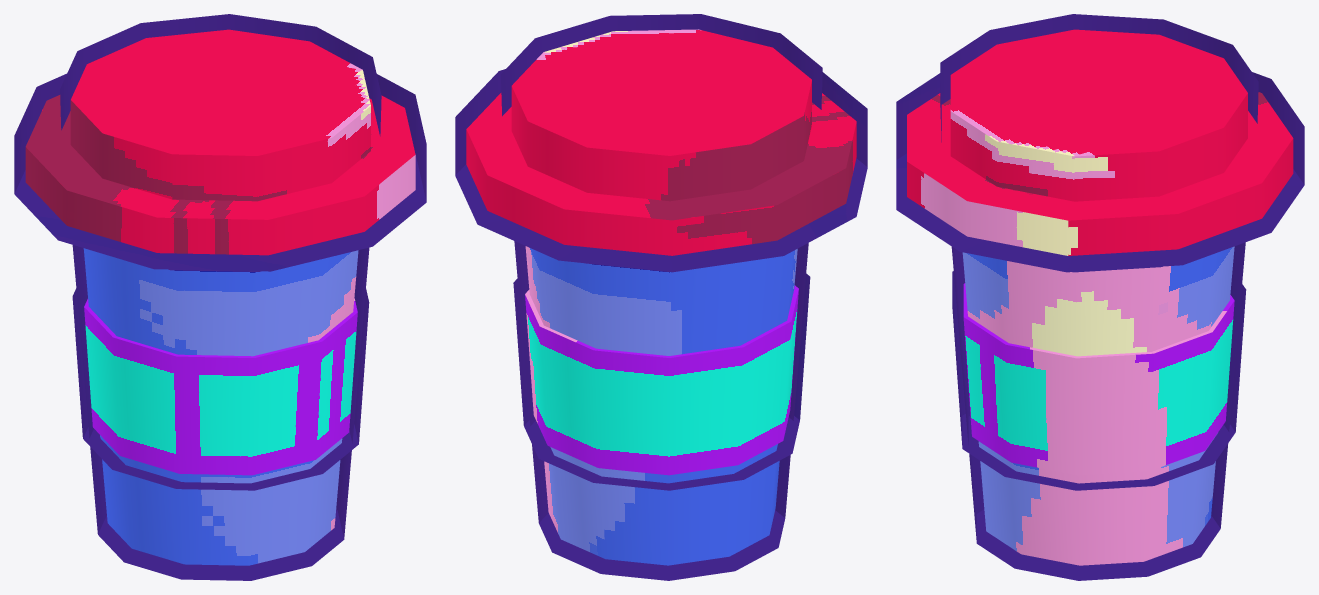
The model's file is CupForWeb.glb.
3 renders of one model, left to right at view 1: azimuth 30°, elevation 25°; view 2: azimuth 150°, elevation 25°; view 3: azimuth 270°, elevation 25°, orthographic.
Parts seen in each view (by area): view 1: Cylinder.003; view 2: Cylinder.003; view 3: Cylinder.003.
Part boxes in pixels (box(x1,y1,x2,y2)): Cylinder.003: box(14, 14, 426, 580); Cylinder.003: box(455, 14, 867, 580); Cylinder.003: box(896, 14, 1304, 580).
Size of the model in its own units: 1 by 1.2 by 0.9926.
4 materials, 4 textured.
